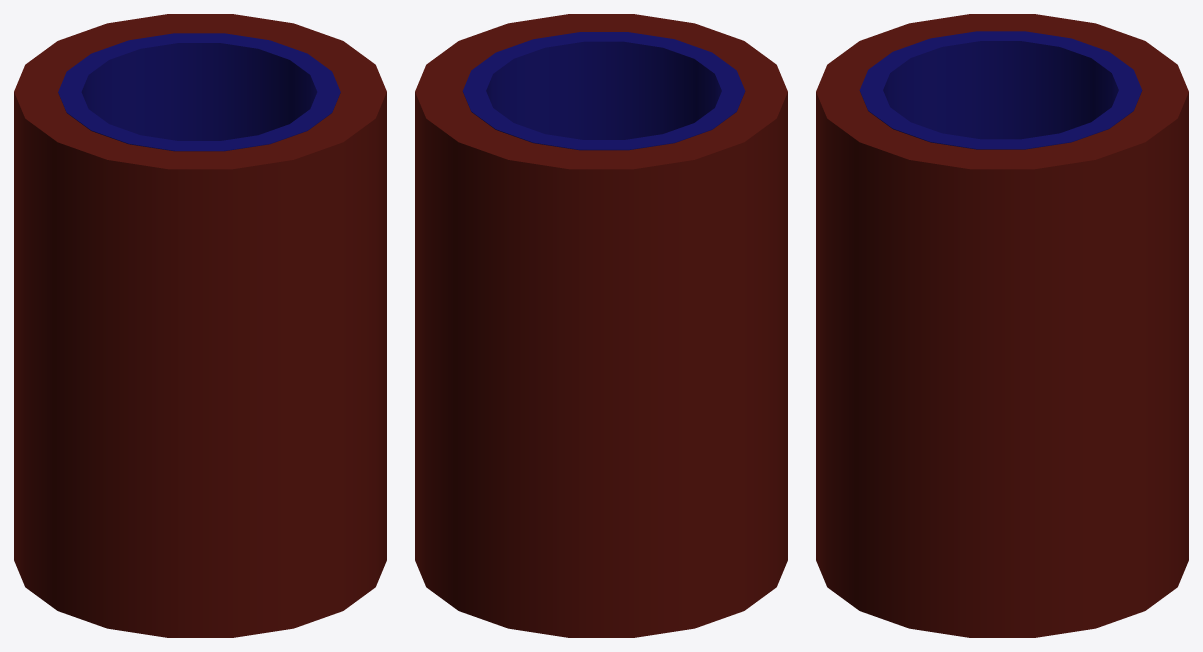
The model's file is Vein.fbx.
3 views of the same model, side by side, from view 1: azimuth 30°, elevation 25°; view 2: azimuth 150°, elevation 25°; view 3: azimuth 270°, elevation 25° (orthographic).
Visible parts, largest first — view 1: Tube001, Tube002; view 2: Tube001, Tube002; view 3: Tube001, Tube002.
Boxes of the visible parts, bbox=[...] form: Tube001: bbox=[14, 14, 386, 637]; Tube002: bbox=[58, 33, 340, 151]; Tube001: bbox=[415, 14, 787, 637]; Tube002: bbox=[462, 32, 745, 150]; Tube001: bbox=[816, 14, 1188, 637]; Tube002: bbox=[859, 31, 1142, 149].
Bounding box in the file's own units: 28.61 × 40.34 × 29.05.
